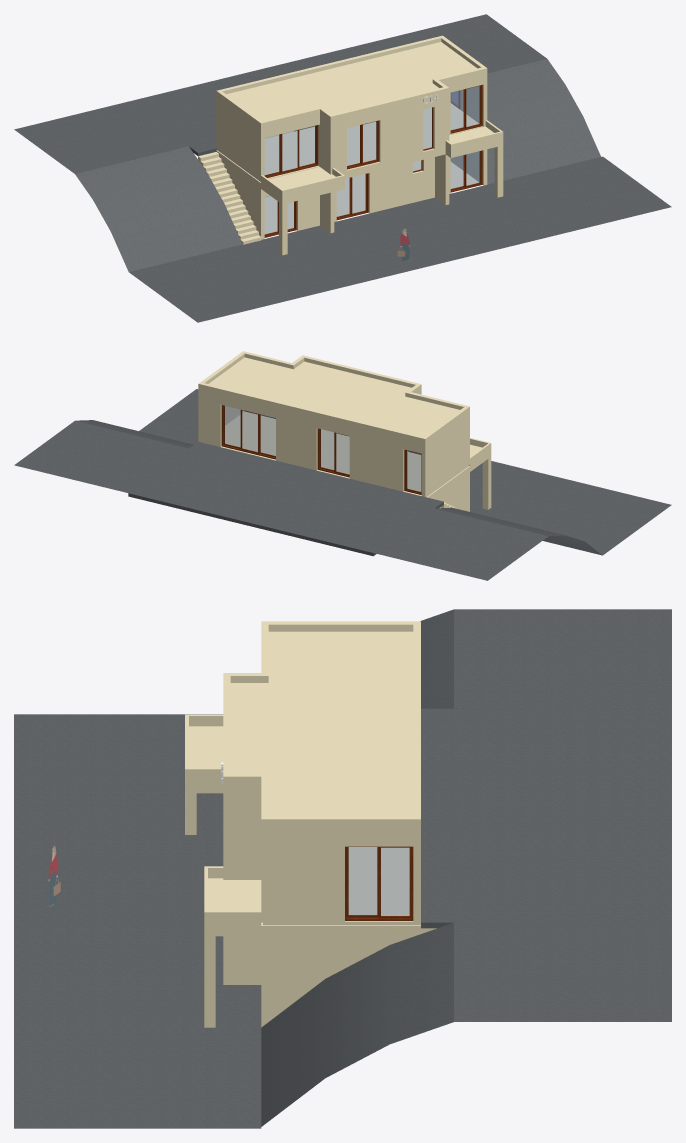
3 renders of one model, top to bottom at view 1: azimuth 30°, elevation 25°; view 2: azimuth 150°, elevation 25°; view 3: azimuth 270°, elevation 25°, orthographic. The views are drawn at different scales.
Visible parts, largest first — view 1: 19827, 19807 (×2), 17029, 33270, 18691, 19815, 18941, Component#1 (×5), 18744, 19753, 24723, 34010 (+3 smaller); view 2: 18744, 17029, 19827, 18691, 19815, 19753, 25199, 19807 (×2), Component#1, 33270, 18941, 17334 (+2 smaller); view 3: 19827, 18744, 18691, 19807 (×2), 19753, 19815, 17029, 33270, 18941, Component#1, 33838, 34010 (+1 smaller).
Part boxes in pixels (box(x1,y1,x2,y2)): 19827: box(129, 156, 671, 322); 19807 (×2): box(75, 59, 600, 271); 17029: box(216, 35, 487, 180); 33270: box(216, 126, 487, 239); 18691: box(226, 42, 477, 120); 19815: box(14, 101, 188, 173); 18941: box(267, 80, 482, 178); Component#1 (×5): box(264, 85, 482, 237); 18744: box(128, 42, 382, 156); 19753: box(373, 14, 546, 73); 24723: box(264, 125, 318, 177); 34010: box(261, 167, 344, 202); 18744: box(128, 441, 443, 556); 17029: box(198, 351, 469, 496); 19827: box(139, 389, 671, 555); 18691: box(208, 357, 459, 436); 19815: box(374, 508, 548, 580); 19753: box(14, 420, 188, 492); 25199: box(221, 405, 275, 459); 19807 (×2): box(76, 420, 602, 555); Component#1: box(317, 428, 349, 477); 33270: box(321, 429, 469, 511); 18941: box(221, 355, 421, 495); 17334: box(404, 449, 421, 494); 19827: box(14, 714, 261, 1128); 18744: box(421, 708, 671, 928); 18691: box(230, 631, 413, 815); 19807 (×2): box(261, 609, 453, 1126); 19753: box(454, 922, 671, 1021); 19815: box(454, 609, 671, 708); 17029: box(261, 621, 420, 922); 33270: box(223, 921, 436, 1027); 18941: box(223, 673, 413, 921); Component#1: box(345, 846, 413, 920); 33838: box(204, 866, 261, 936); 34010: box(185, 714, 223, 793).
Size of the model in its own units: 25.77 by 6.23 by 17.3.
Materials: 513 (148 with a texture image).
